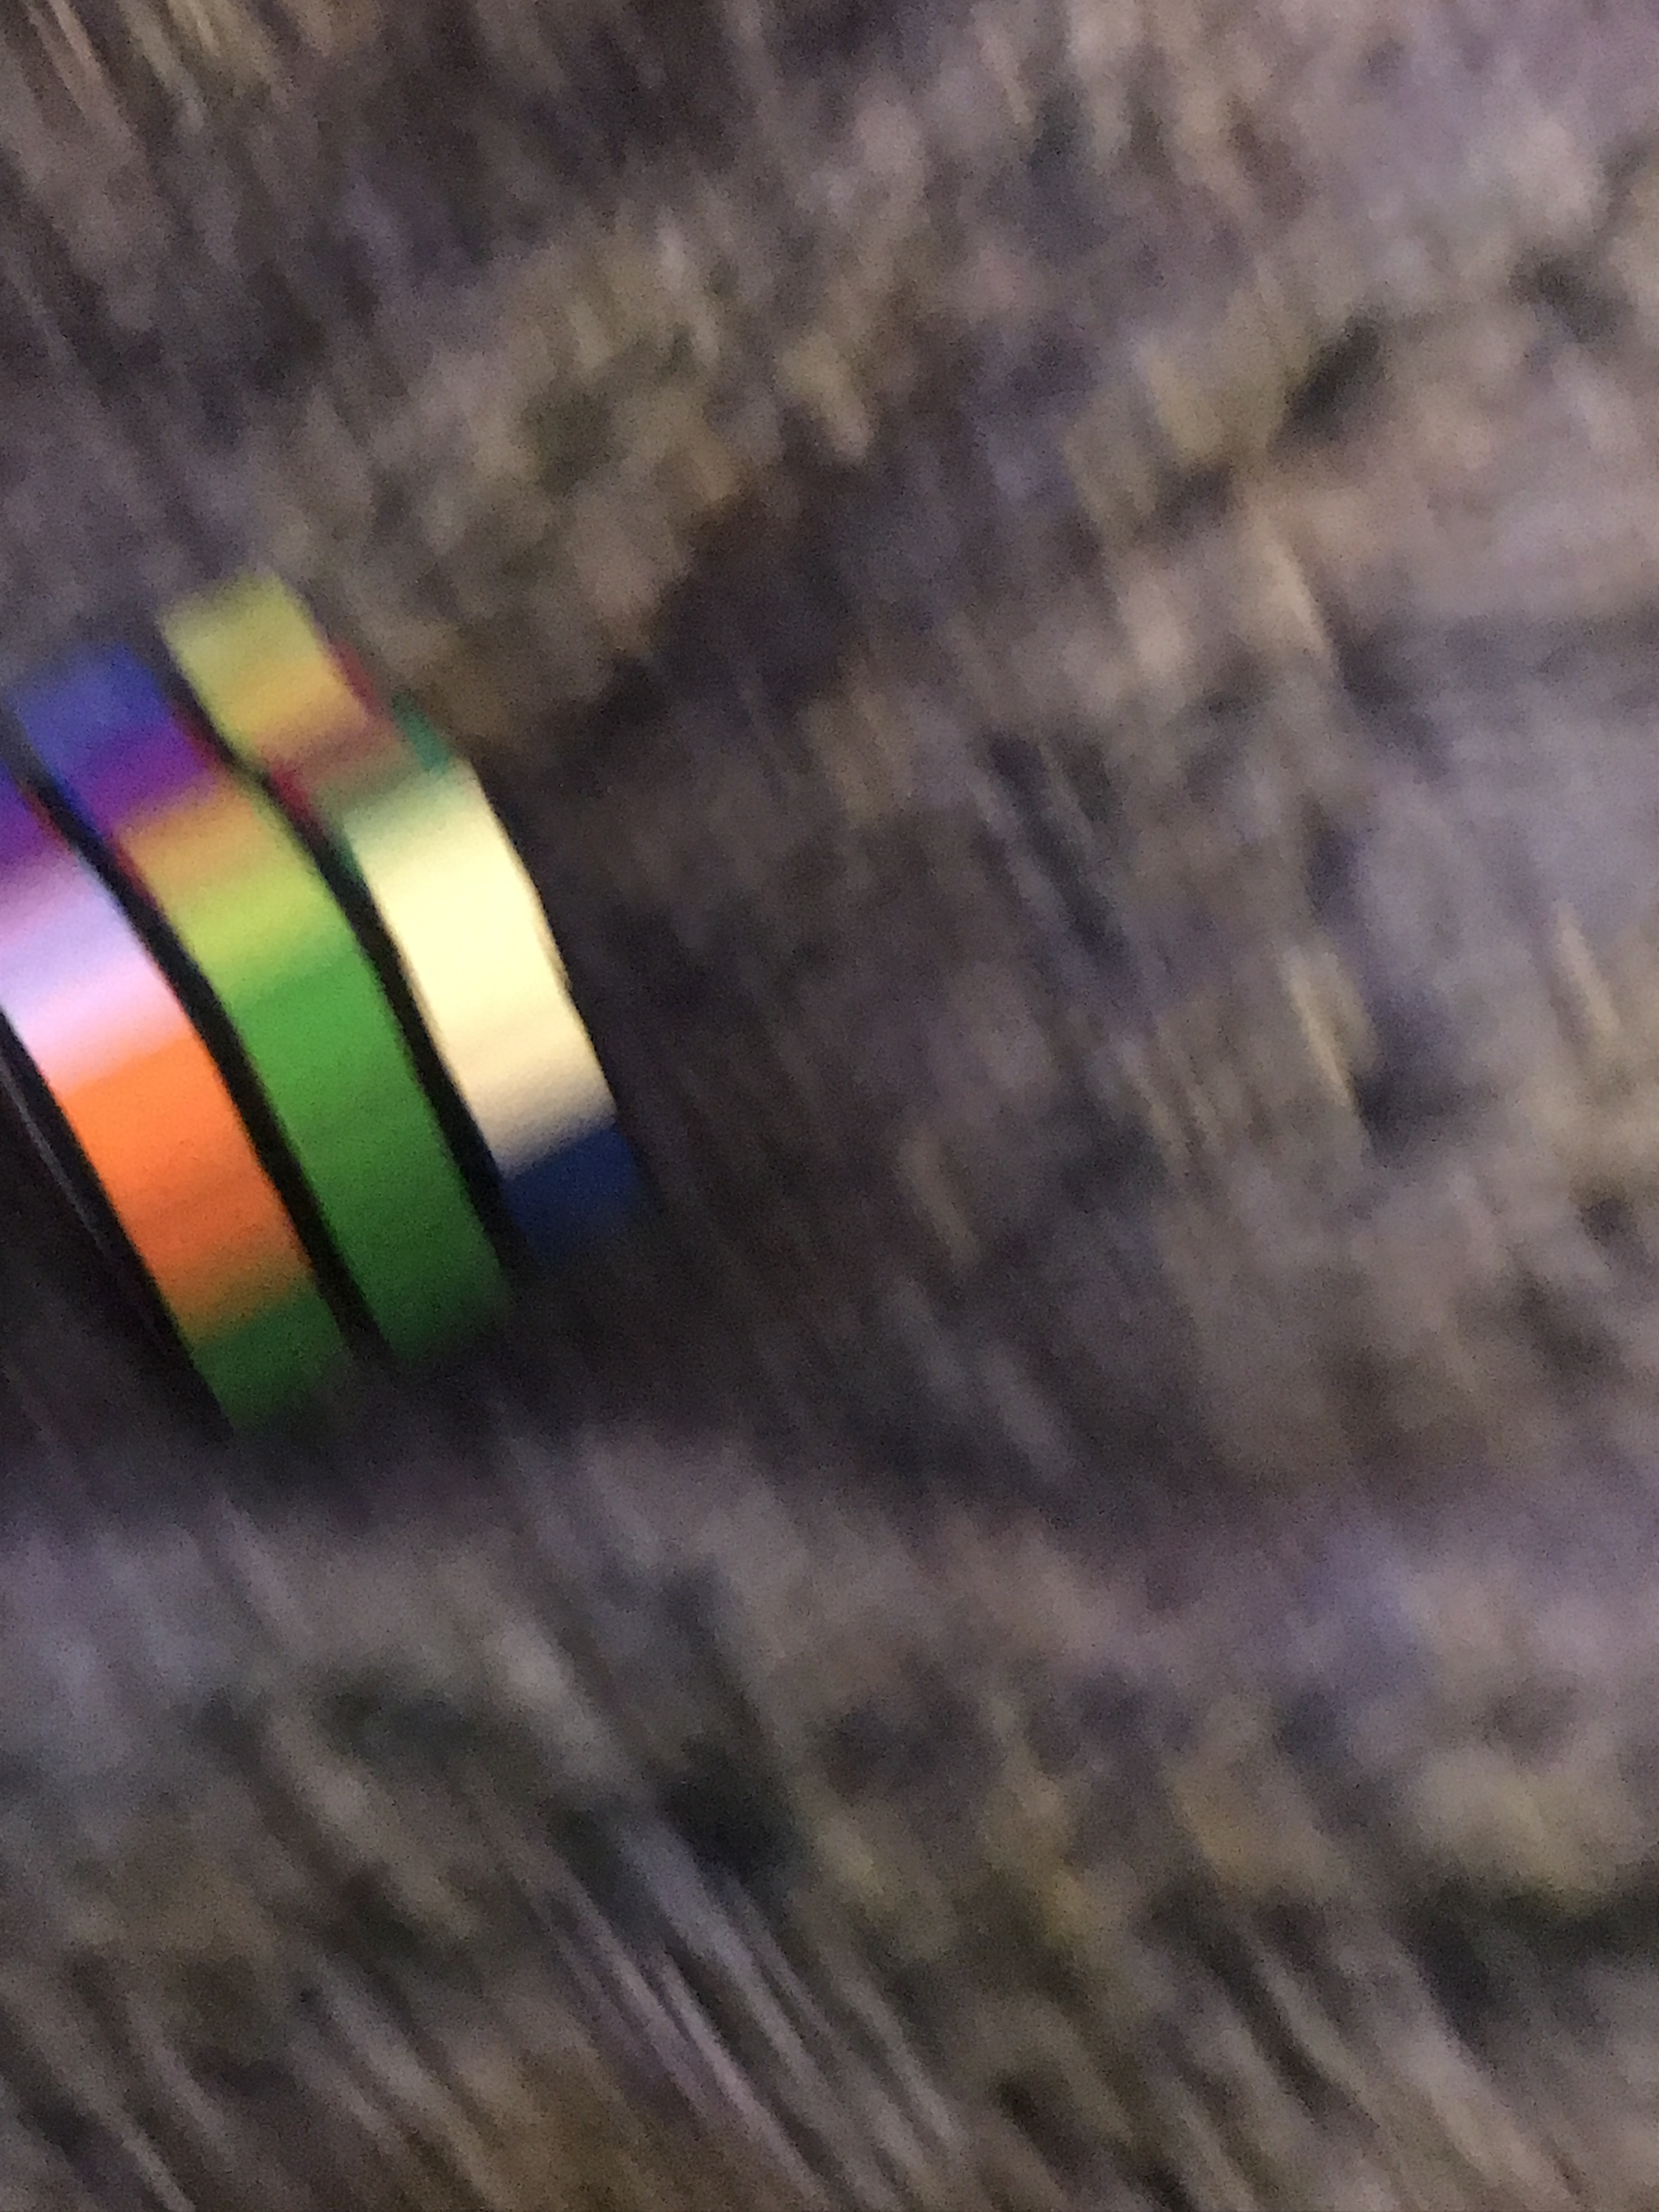rubiks: (26, 570, 660, 1447)
